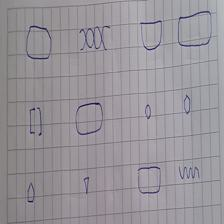complex-sbgn: (26, 26, 51, 59)
dsNA: (79, 26, 111, 50)
halfround-rectangle: (138, 167, 161, 194), (140, 22, 162, 50)
macromolecule: (177, 11, 212, 46)
no-glyph-assigned: (30, 107, 42, 135)
simple-chemical-circle: (145, 104, 151, 119)
simple-chemical-hexagon: (184, 95, 191, 113)
simple-chemical-pentagon: (27, 182, 35, 202)
simple-chemical-triangle: (84, 177, 90, 193)
ssNA: (178, 166, 200, 179)
